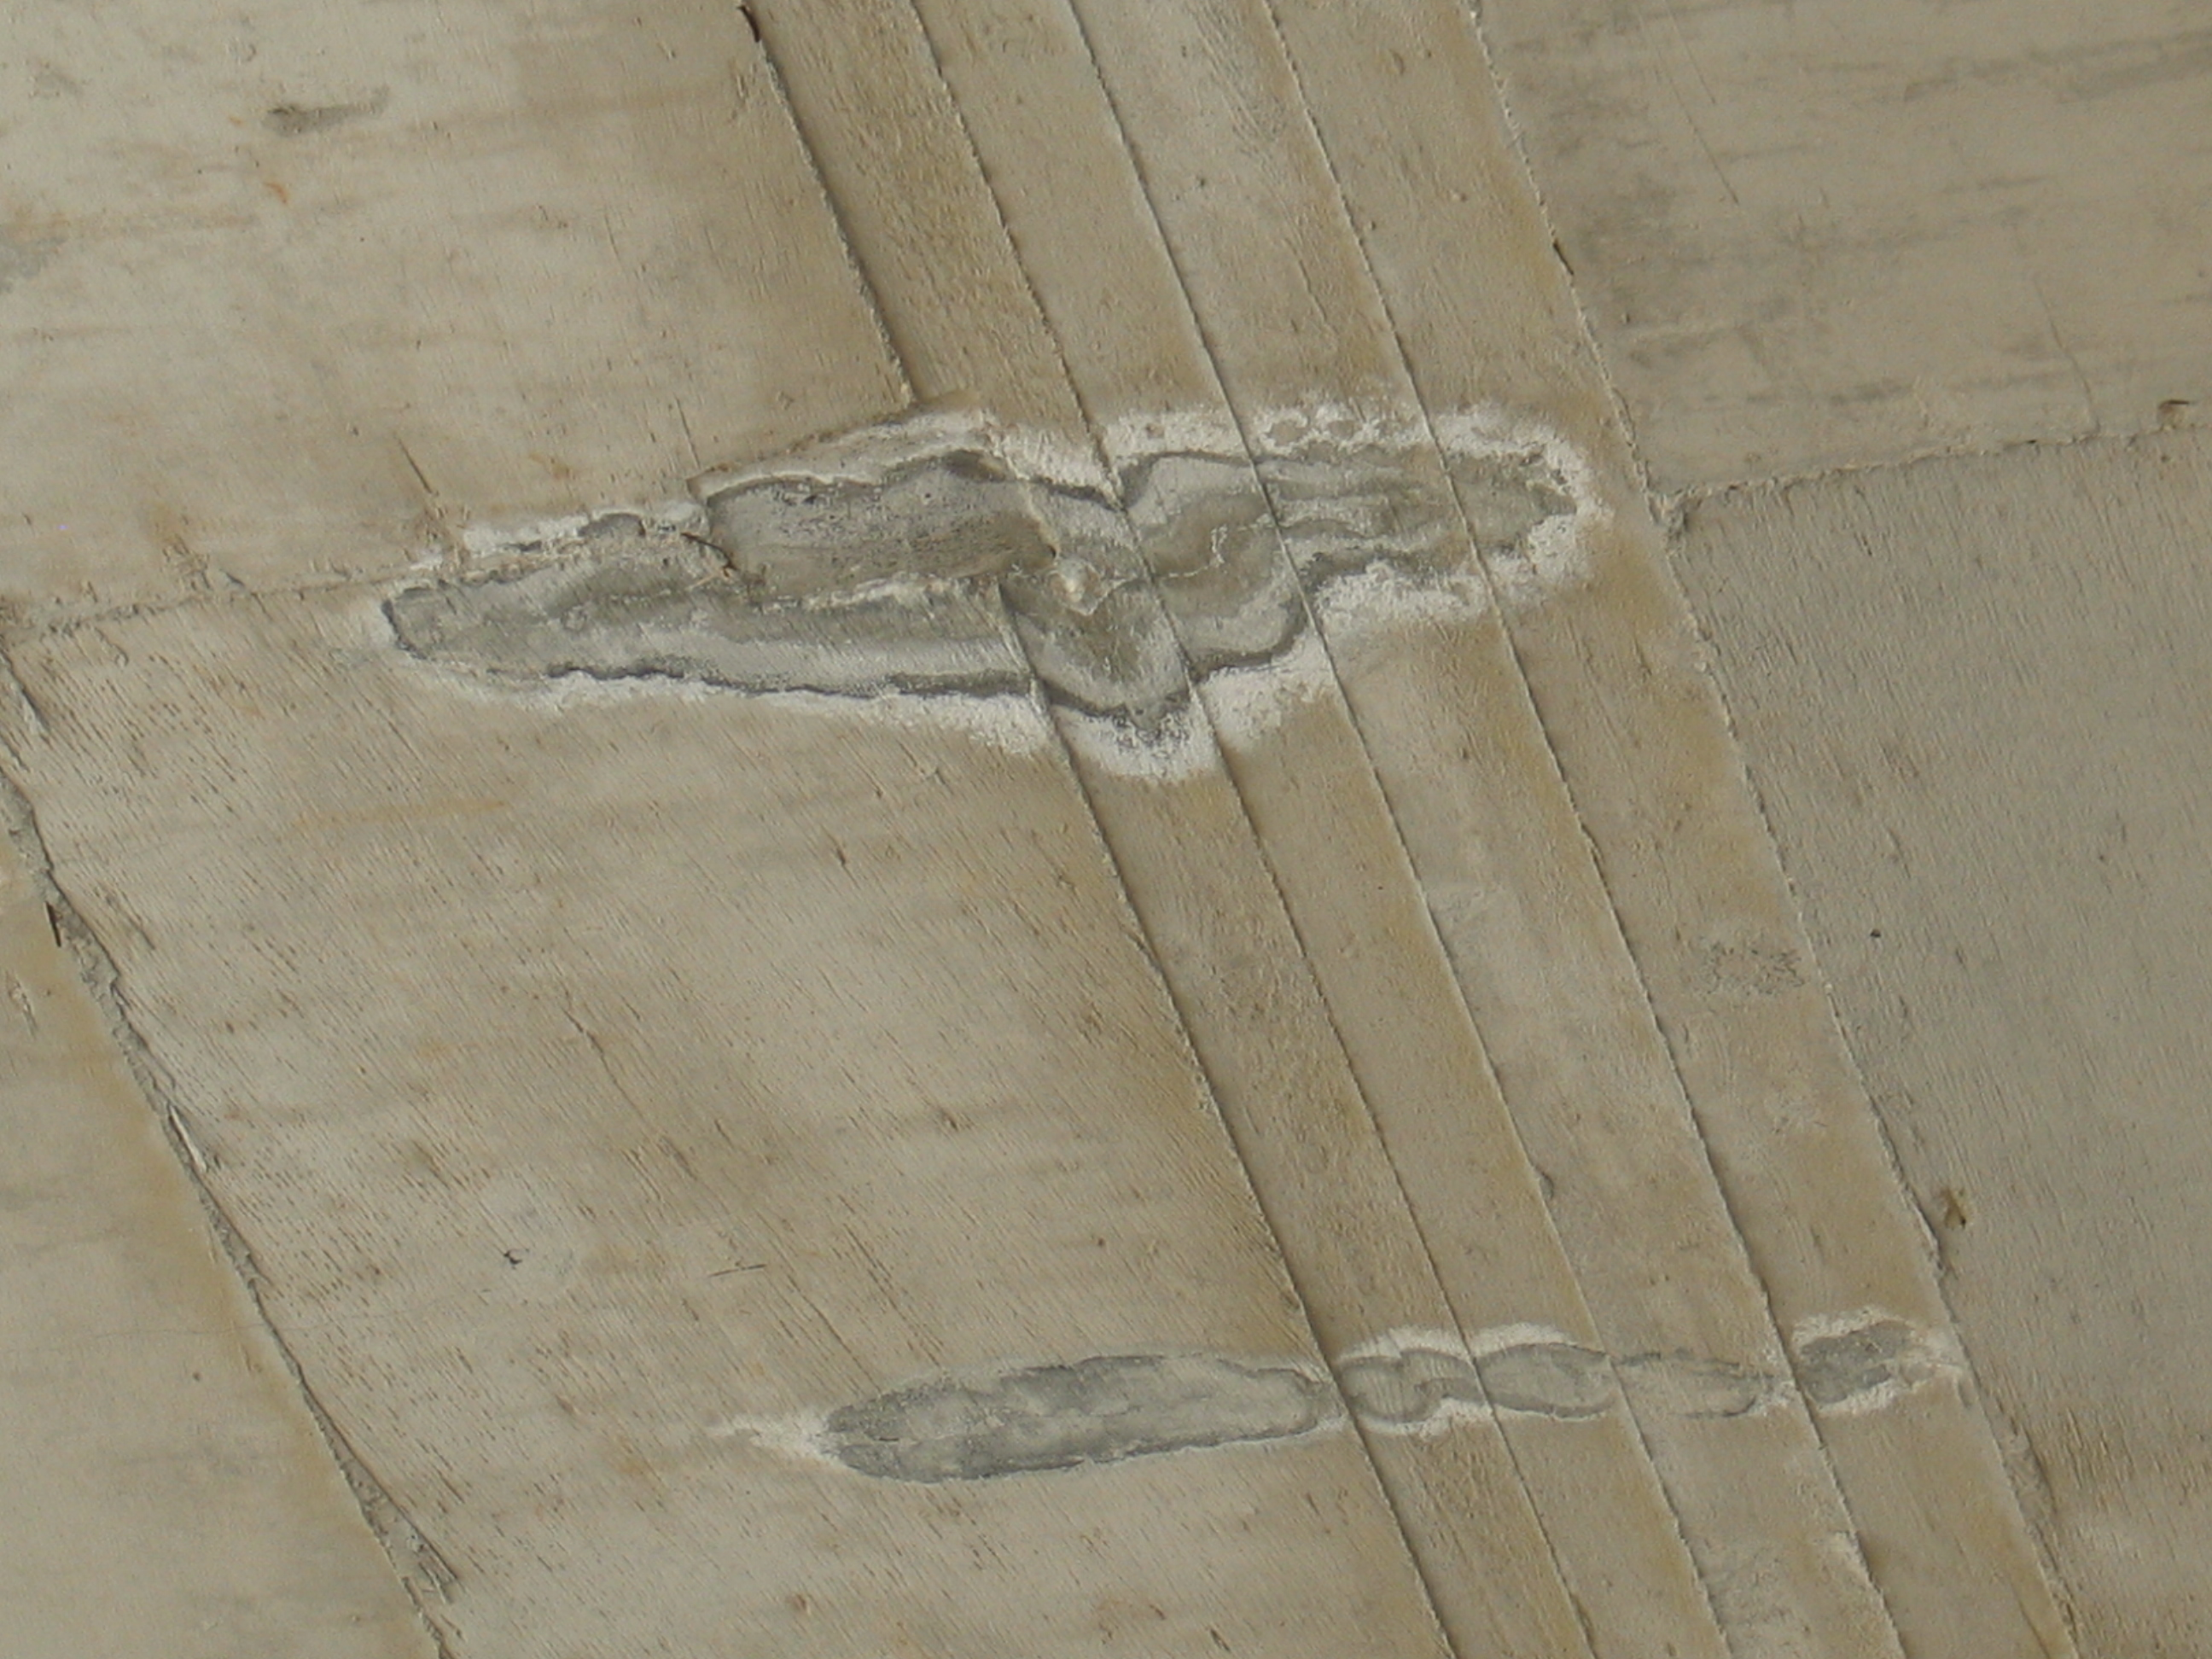defect: (374, 387, 1599, 788), (735, 1297, 1951, 1497)
